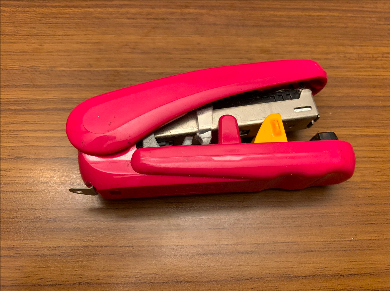Nonfood: (76, 60, 359, 194)
